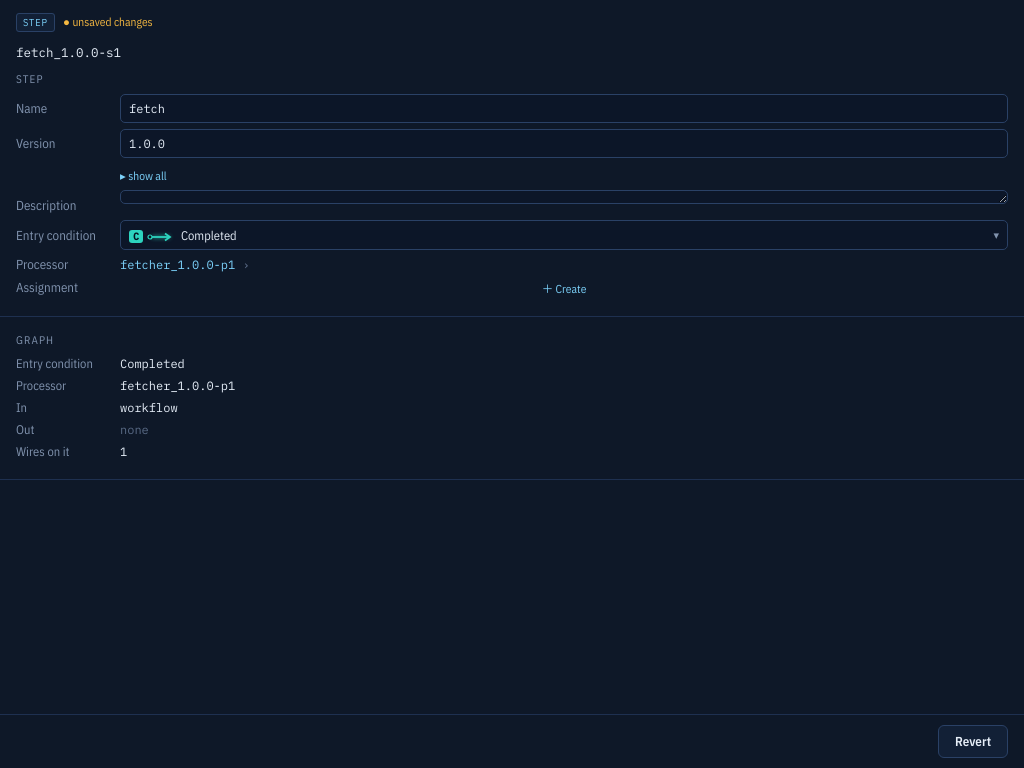
Inspector editing (plan 8 §3.3: the design, never BaseApi) › a stale stamp with no changed fields (spec §6.2: Revert clears it) › a wiring-only step: marked, Revert enabled, and Revert sends the freshly loaded stamp with the wiring kept
This screenshot has width=1024, height=768.
Expected: the text box labelled "Description" is shown, top-left (120, 190), bottom-right (1008, 204)
Expected: the text "● unsaved changes" is shown, top-left (63, 14), bottom-right (153, 29)
Step 1. Click the button "Revert" → [973, 742], box top-left (938, 725), bottom-right (1008, 758)
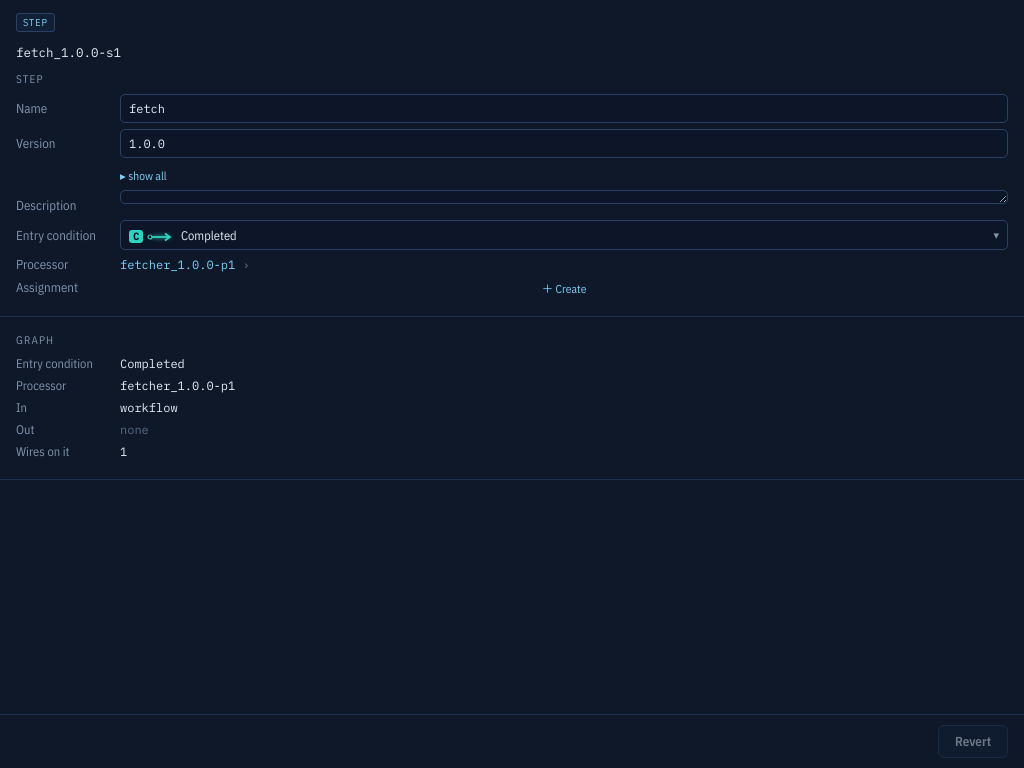
Now the button "Revert" is disabled, box top-left (938, 725), bottom-right (1008, 758)
